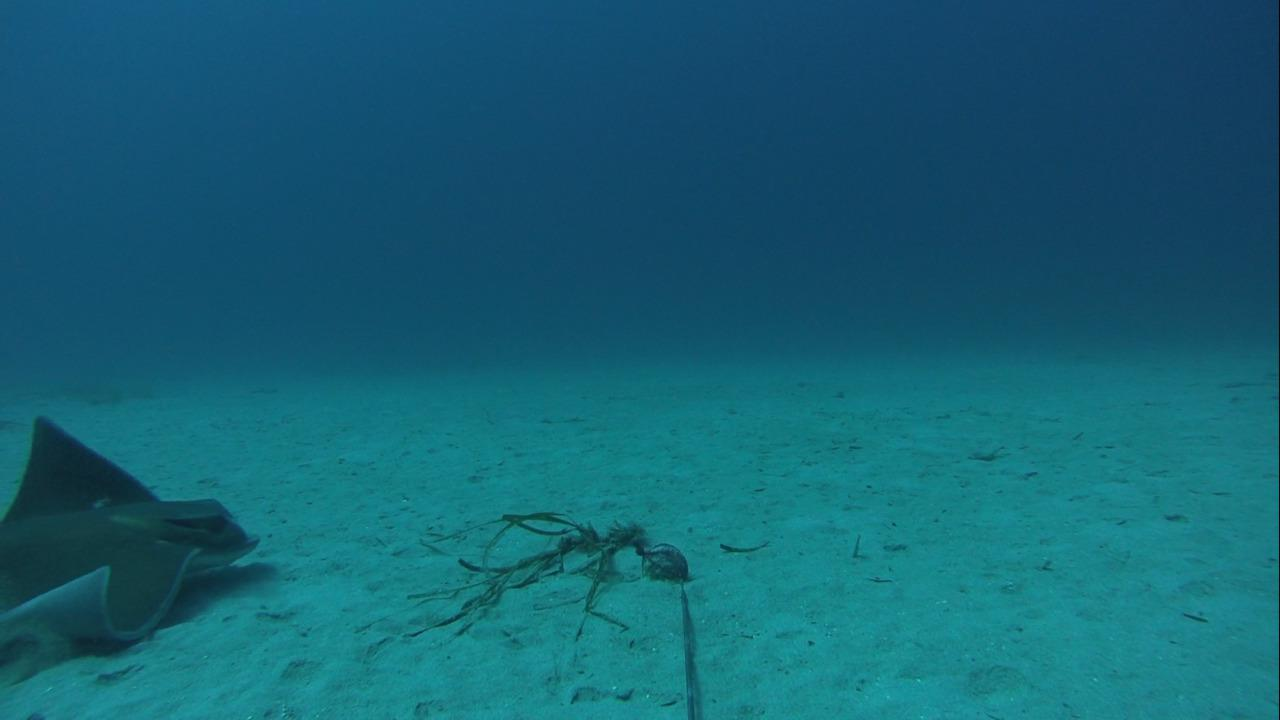myliobatis: (6, 412, 262, 648)
